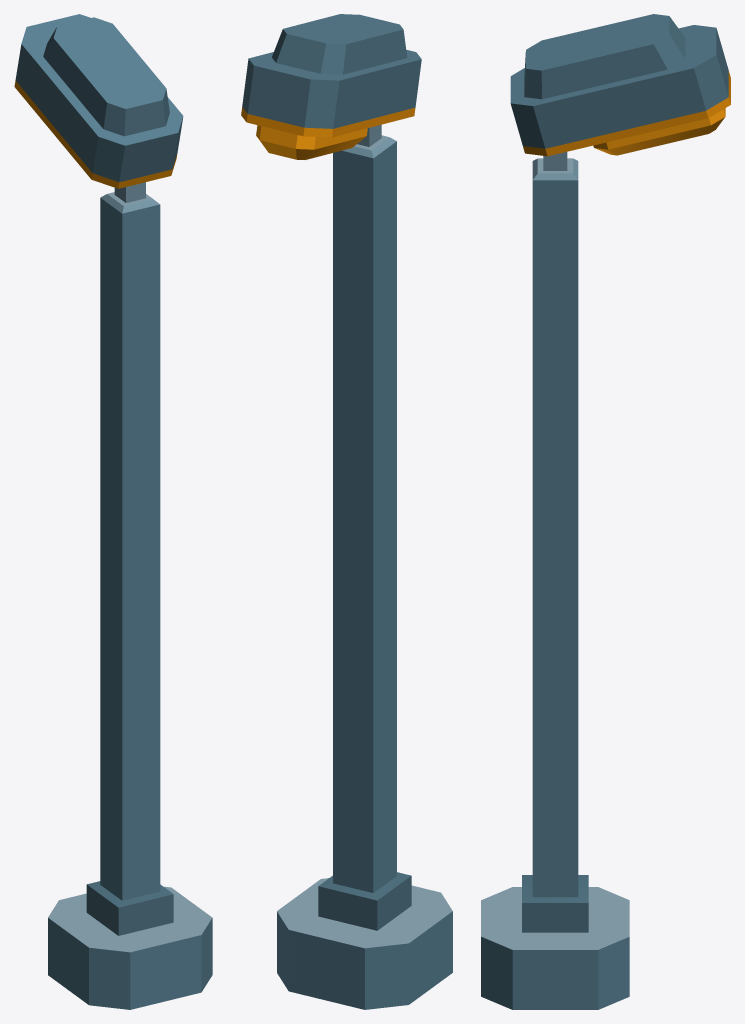
File: BG_light.fbx
3 views of the same model, side by side, from view 1: azimuth 30°, elevation 25°; view 2: azimuth 150°, elevation 25°; view 3: azimuth 270°, elevation 25° (orthographic). The views are drawn at different scales.
Visible parts, largest first — view 1: 立方体.004; view 2: 立方体.004; view 3: 立方体.004.
Part boxes in pixels (box(x1,y1,x2,y2)): 立方体.004: box(14, 14, 212, 1009); 立方体.004: box(241, 14, 452, 1009); 立方体.004: box(481, 14, 730, 1009).
Size of the model in its own units: 44.85 by 317 by 75.34.
